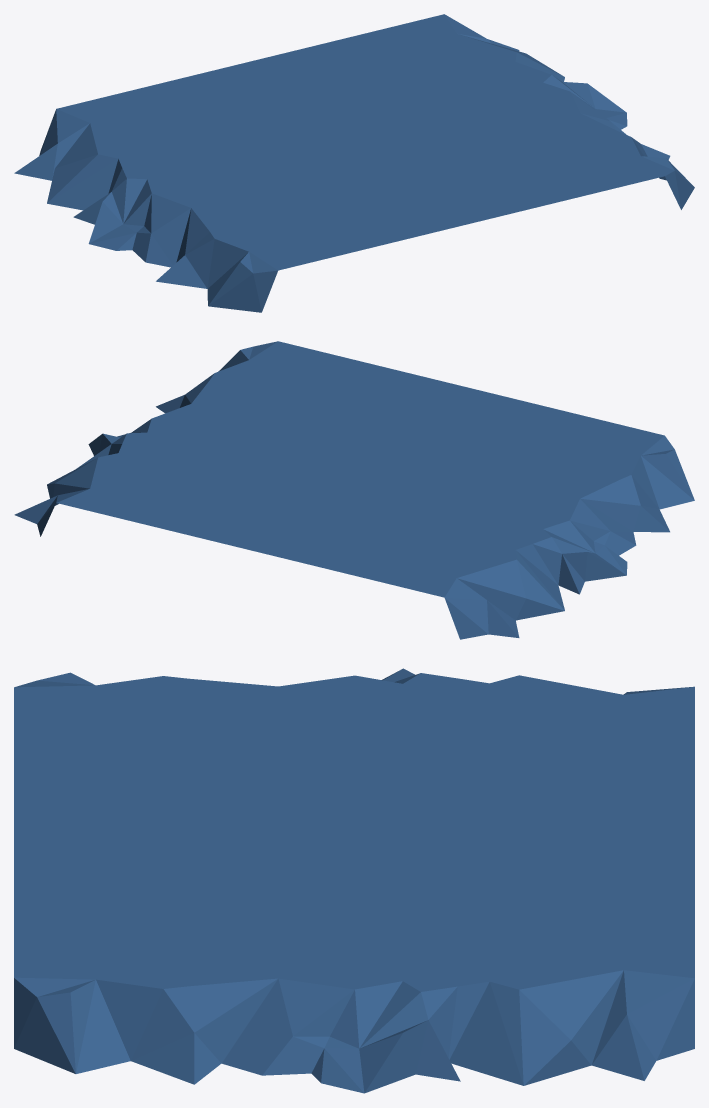
File: Platform_02 (1).fbx
3 renders of one model, top to bottom at view 1: azimuth 30°, elevation 25°; view 2: azimuth 150°, elevation 25°; view 3: azimuth 270°, elevation 25°, orthographic. The views are drawn at different scales.
Visible parts, largest first — view 1: Cube:Group3409; view 2: Cube:Group3409; view 3: Cube:Group3409.
Boxes of the visible parts, bbox=[...] form: Cube:Group3409: bbox=[14, 14, 694, 312]; Cube:Group3409: bbox=[14, 341, 694, 639]; Cube:Group3409: bbox=[14, 668, 694, 1093].
Size of the model in its own units: 11.92 by 0.8094 by 8.49.
